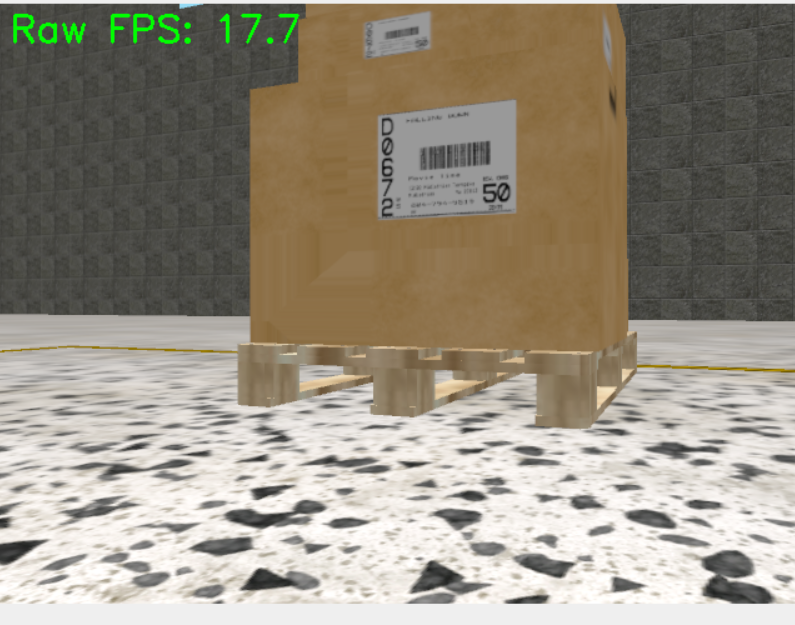barcode: (376, 99, 518, 221), (365, 10, 433, 58)
